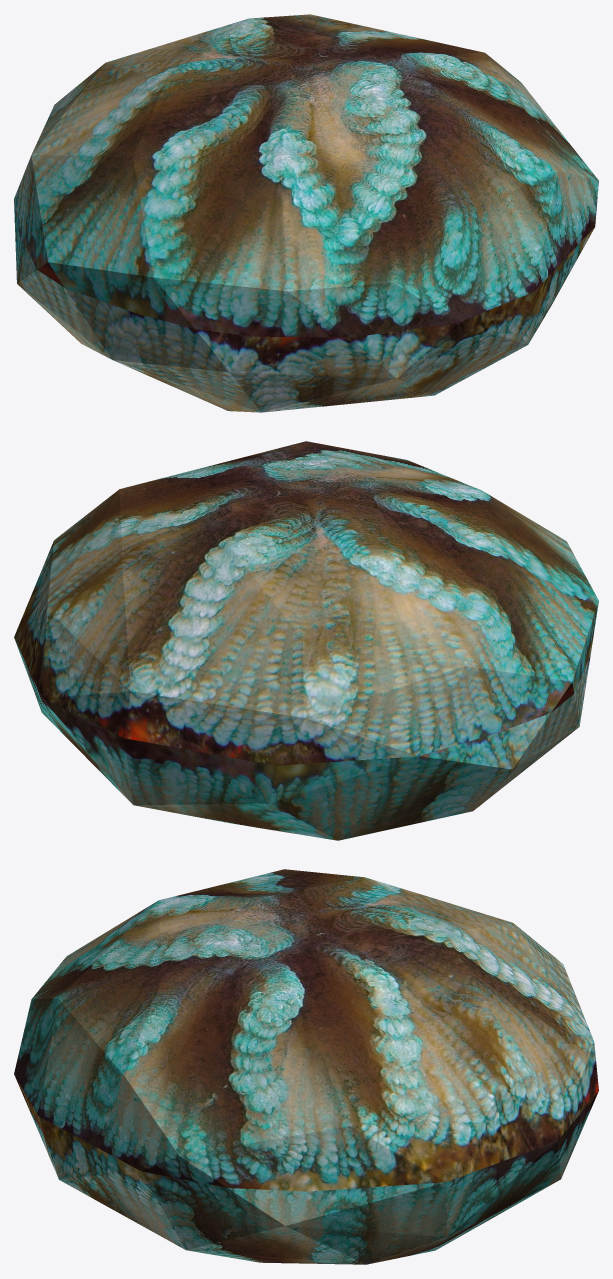
File: lettuce_coral.fbx
3 renders of one model, top to bottom at view 1: azimuth 30°, elevation 25°; view 2: azimuth 150°, elevation 25°; view 3: azimuth 270°, elevation 25°, orthographic.
Visible parts, largest first — view 1: Sphere; view 2: Sphere; view 3: Sphere.
Part boxes in pixels (x1,y1,x2,y2): Sphere: (14,14,598,412); Sphere: (14,441,598,840); Sphere: (14,869,598,1264).
Bounding box in the file's own units: 202 × 116 × 199.
